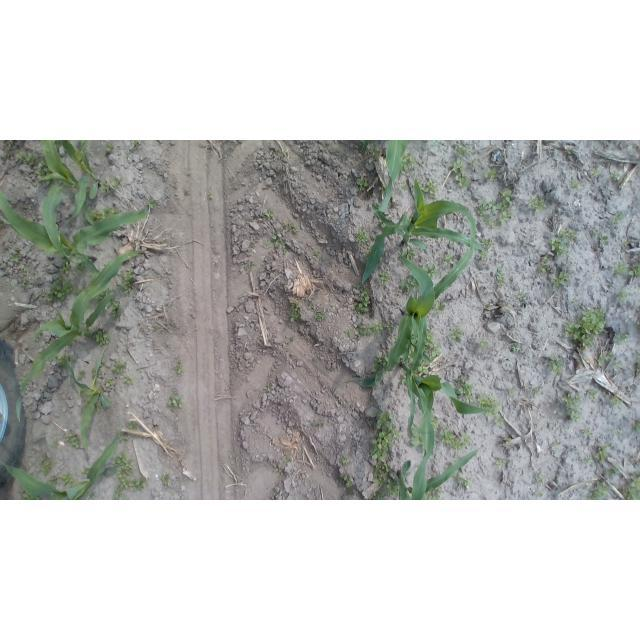Maize: (334, 243, 480, 395), (18, 249, 144, 420), (398, 312, 500, 500), (356, 175, 485, 288), (0, 186, 152, 279), (35, 140, 101, 268), (3, 433, 126, 500), (68, 350, 113, 455), (394, 448, 480, 500), (59, 140, 103, 225), (364, 141, 412, 217)
Weeds: (562, 299, 608, 348), (368, 413, 401, 464), (477, 189, 515, 225), (372, 462, 398, 496), (439, 424, 470, 451), (44, 276, 75, 302), (562, 393, 583, 423), (112, 453, 137, 477), (353, 284, 372, 314), (450, 158, 469, 188), (61, 259, 92, 277), (355, 320, 386, 337), (457, 377, 476, 403), (477, 394, 499, 416), (425, 329, 441, 358), (117, 269, 135, 294), (624, 474, 640, 500), (266, 234, 286, 254), (590, 481, 611, 500), (34, 159, 51, 181), (338, 472, 355, 493), (411, 424, 425, 448), (400, 152, 416, 173), (113, 478, 128, 500), (549, 238, 568, 255), (423, 263, 442, 280), (40, 455, 54, 477), (91, 207, 119, 218), (288, 301, 302, 323), (421, 181, 439, 198), (529, 196, 547, 213), (166, 391, 182, 410), (16, 150, 36, 165), (128, 477, 149, 491), (549, 356, 563, 377), (552, 270, 568, 288), (400, 276, 418, 292), (56, 353, 76, 367), (374, 354, 389, 372), (454, 475, 472, 490), (594, 446, 609, 463), (401, 245, 416, 262), (94, 331, 110, 346), (67, 433, 82, 449), (610, 390, 624, 407), (560, 227, 577, 241), (539, 255, 552, 273), (109, 300, 122, 318), (356, 176, 371, 191), (355, 228, 369, 244), (60, 471, 76, 485), (613, 261, 628, 275), (113, 360, 128, 374), (441, 254, 457, 267), (419, 360, 432, 376), (2, 143, 14, 160), (454, 144, 471, 156), (496, 266, 506, 286), (18, 490, 38, 500), (423, 489, 441, 500), (615, 332, 630, 345), (616, 289, 629, 304), (450, 327, 463, 342), (379, 270, 390, 287), (597, 353, 611, 366), (628, 263, 640, 278), (434, 300, 446, 315), (286, 223, 299, 236), (96, 289, 110, 301), (127, 419, 141, 431), (486, 168, 499, 180), (147, 198, 159, 211), (612, 213, 624, 225), (605, 466, 619, 476), (372, 491, 387, 500), (105, 142, 116, 154), (597, 236, 609, 247), (118, 430, 129, 442), (482, 237, 493, 249), (10, 252, 23, 262), (627, 458, 640, 468), (103, 378, 114, 389), (123, 374, 134, 385), (613, 426, 624, 437), (316, 310, 326, 322), (535, 474, 547, 484), (284, 452, 293, 465), (590, 170, 603, 179), (112, 177, 123, 187), (81, 465, 91, 476), (508, 386, 519, 396), (495, 415, 506, 425), (583, 427, 593, 438), (610, 173, 622, 182), (174, 362, 182, 375), (571, 180, 581, 190), (587, 389, 597, 399), (21, 276, 31, 286), (635, 356, 640, 376), (495, 458, 506, 467), (245, 260, 256, 269), (532, 387, 543, 396), (613, 359, 622, 370), (477, 338, 488, 347), (102, 181, 111, 192), (432, 415, 439, 429), (313, 418, 325, 426), (635, 306, 640, 325), (486, 217, 495, 227), (161, 474, 170, 484), (512, 341, 521, 351), (265, 209, 274, 219), (370, 148, 379, 158), (385, 322, 393, 333), (208, 190, 216, 201), (584, 454, 592, 465), (407, 349, 413, 363), (342, 457, 351, 466), (130, 141, 139, 150), (264, 384, 273, 393), (286, 337, 295, 346), (592, 228, 601, 237), (502, 438, 512, 446), (77, 369, 85, 379), (478, 251, 486, 260), (564, 146, 573, 154), (623, 177, 633, 184), (412, 334, 419, 344), (551, 441, 562, 447), (401, 375, 407, 386), (634, 422, 640, 433), (312, 251, 320, 259), (470, 157, 478, 165), (346, 330, 353, 339), (379, 185, 388, 192), (518, 290, 525, 298), (272, 146, 280, 153), (307, 302, 314, 310), (403, 183, 410, 191), (621, 239, 629, 246), (51, 475, 57, 483), (275, 467, 283, 473), (100, 359, 105, 367), (381, 221, 386, 228)
